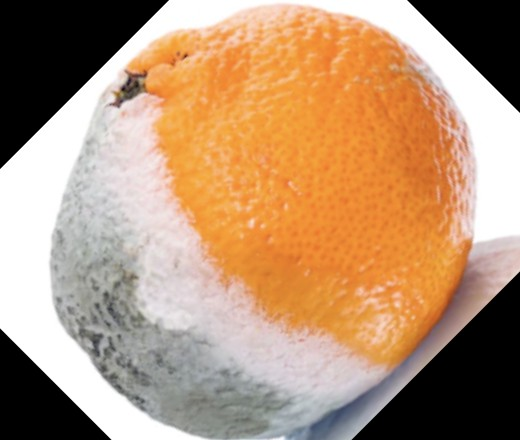rotten_orange: (51, 6, 477, 440)
